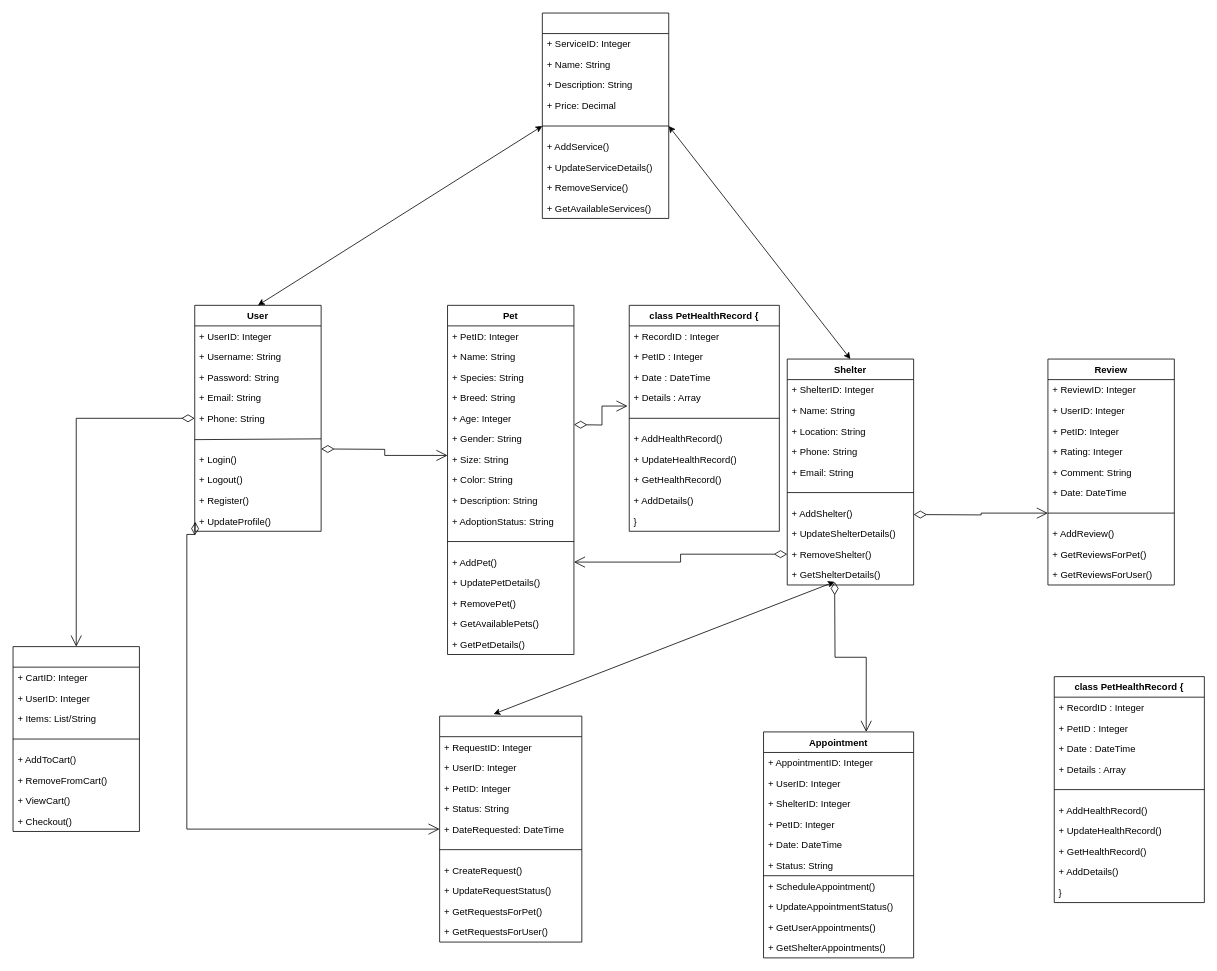
Some shapes in this 1217 by 971 pixel diagram are drawn without their labels. Each missing label, with the box of its shape:
AdoptionRequest: (439, 715, 582, 942)
Donation: (12, 646, 139, 831)
PetCareService: (542, 12, 669, 218)
